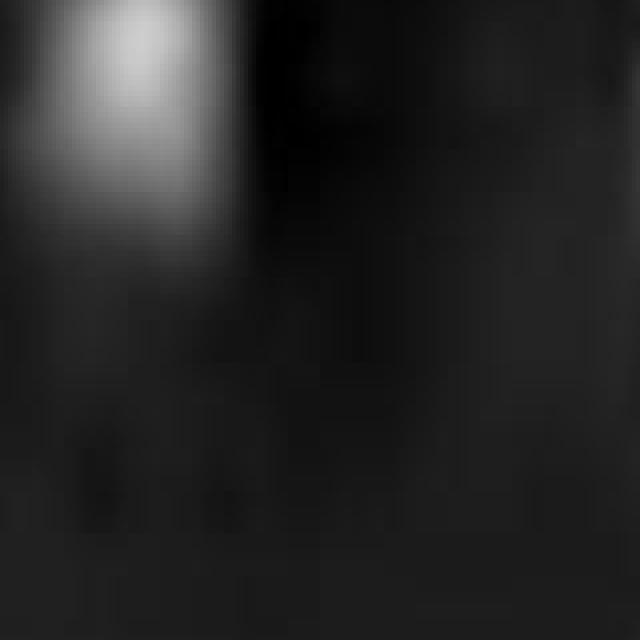person: (13, 1, 245, 332)
